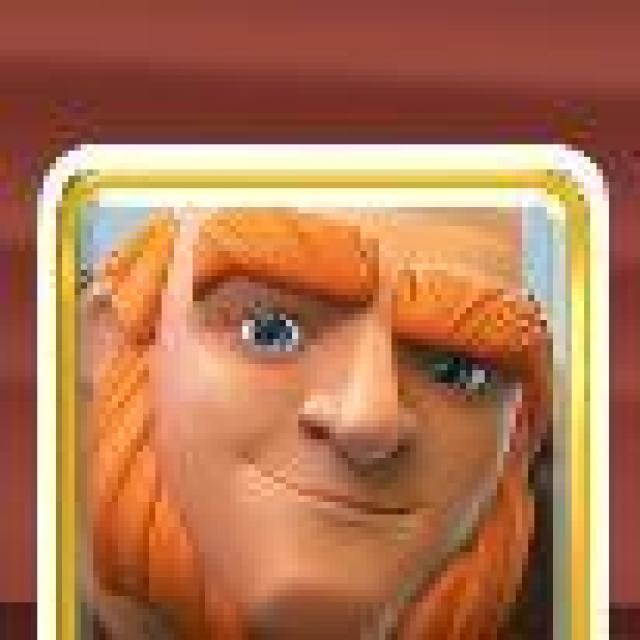Giant: (31, 143, 611, 640)
